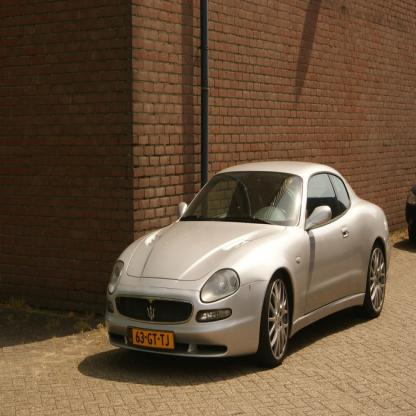Car: (106, 162, 392, 368), (406, 183, 416, 242)
